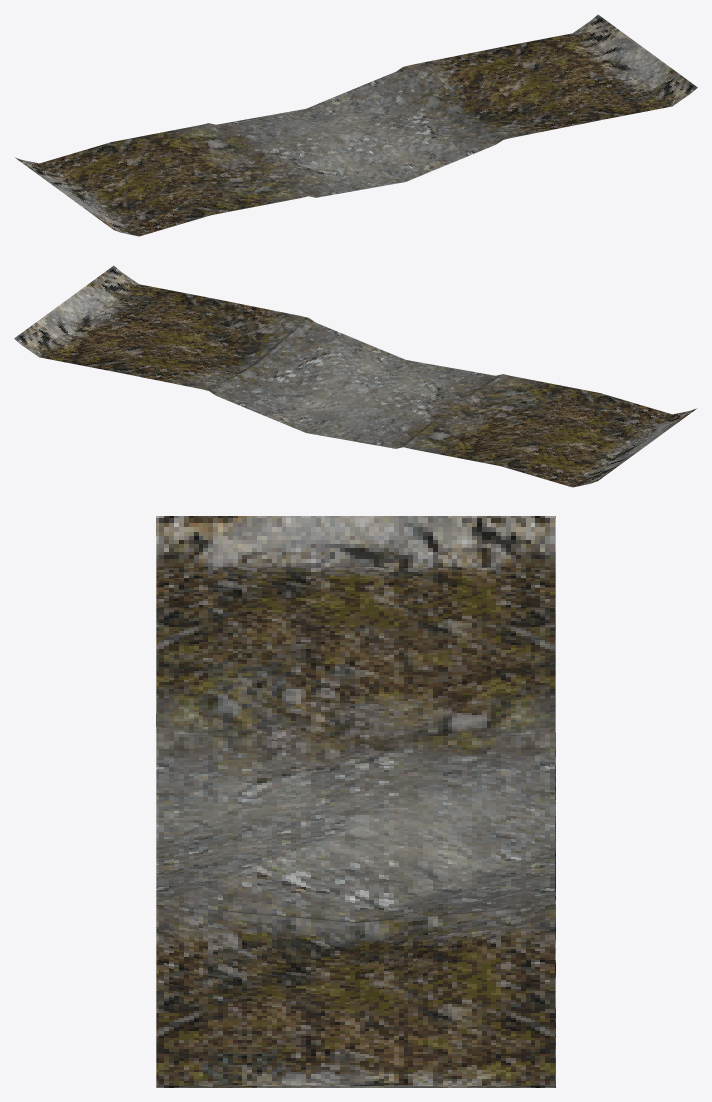
The model's file is 3_road_02_seamless.glb.
3 views of the same model, one above another, from view 1: azimuth 30°, elevation 25°; view 2: azimuth 150°, elevation 25°; view 3: azimuth 270°, elevation 25° (orthographic). The views are drawn at different scales.
Parts seen in each view (by area): view 1: 3_road_02_seamless; view 2: 3_road_02_seamless; view 3: 3_road_02_seamless.
Boxes of the visible parts, x1,y1,x2,y2 form: 3_road_02_seamless: (15,14,697,236); 3_road_02_seamless: (14,265,697,487); 3_road_02_seamless: (156,516,555,1087).
Bounding box in the file's own units: 27.01 × 1.02 × 8.
1 material, 1 textured.
